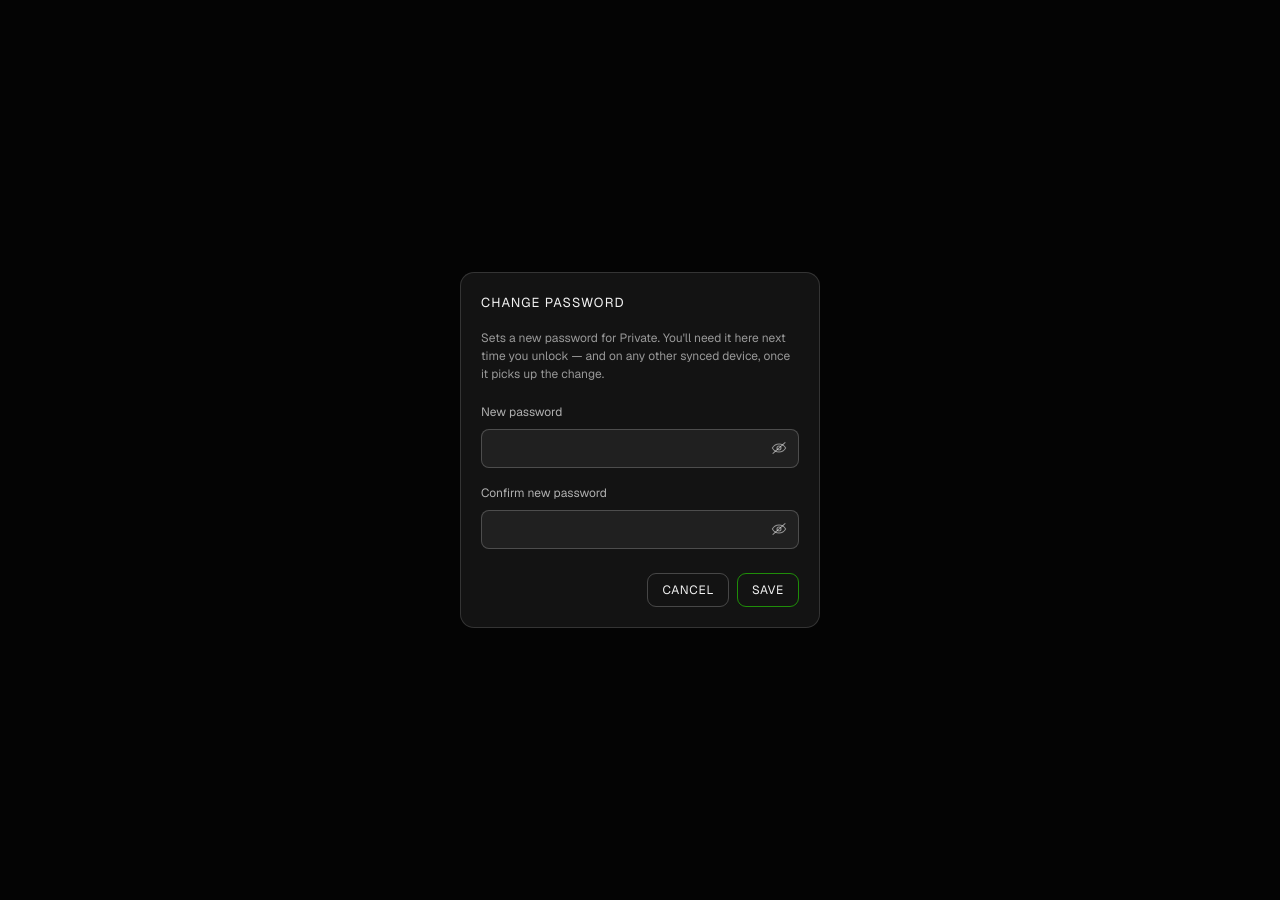
Test: PrivateChangePasswordDialog › shows an error and does not submit when passwords do not match
Type "password1" into the password field labelled "New password" at point(640, 448), box x1=481 y1=429 x2=799 y2=468
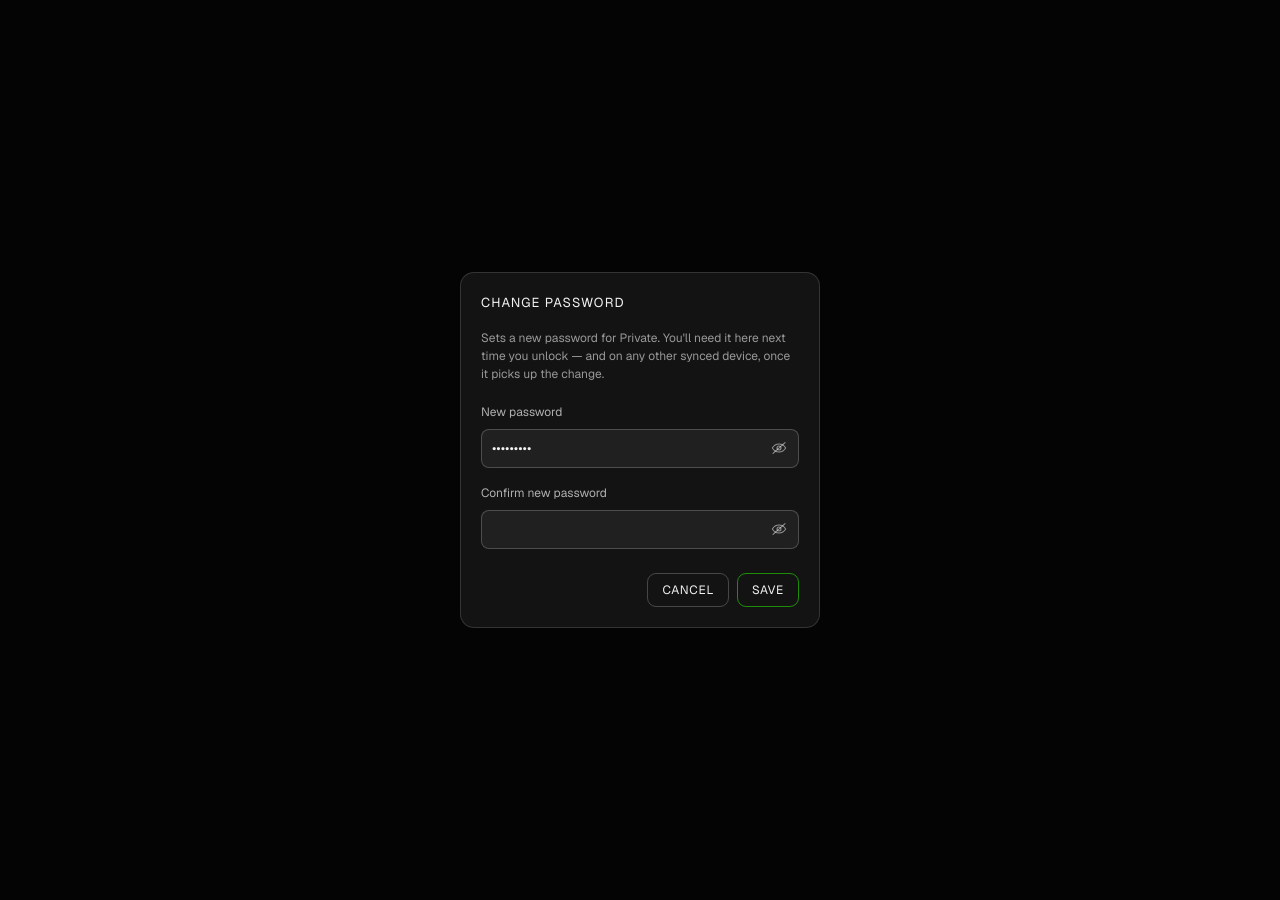
Type "password2" into the password field labelled "Confirm new password" at point(640, 529), box x1=481 y1=510 x2=799 y2=549
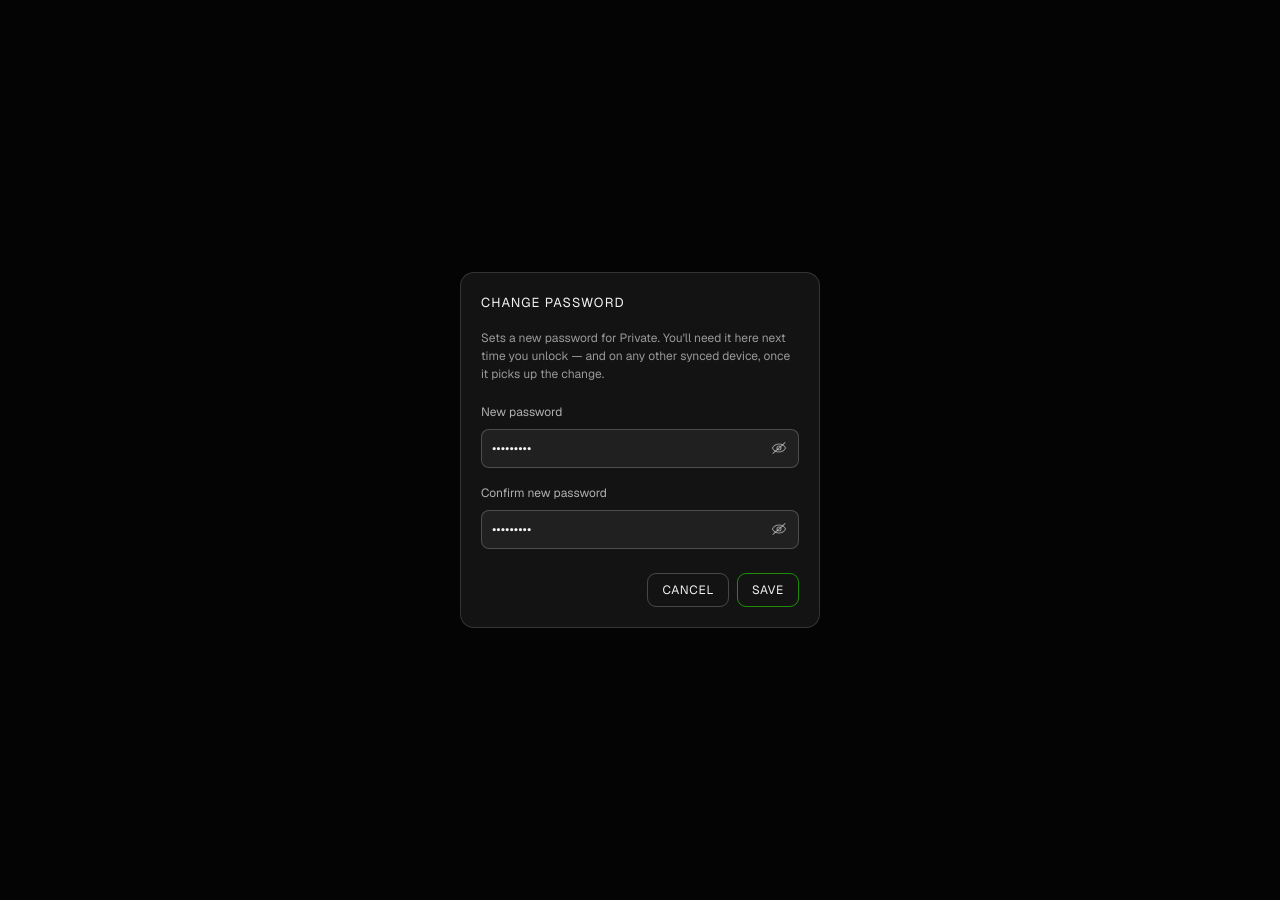
Click the button "SAVE" at point(768, 590), box x1=737 y1=573 x2=799 y2=607
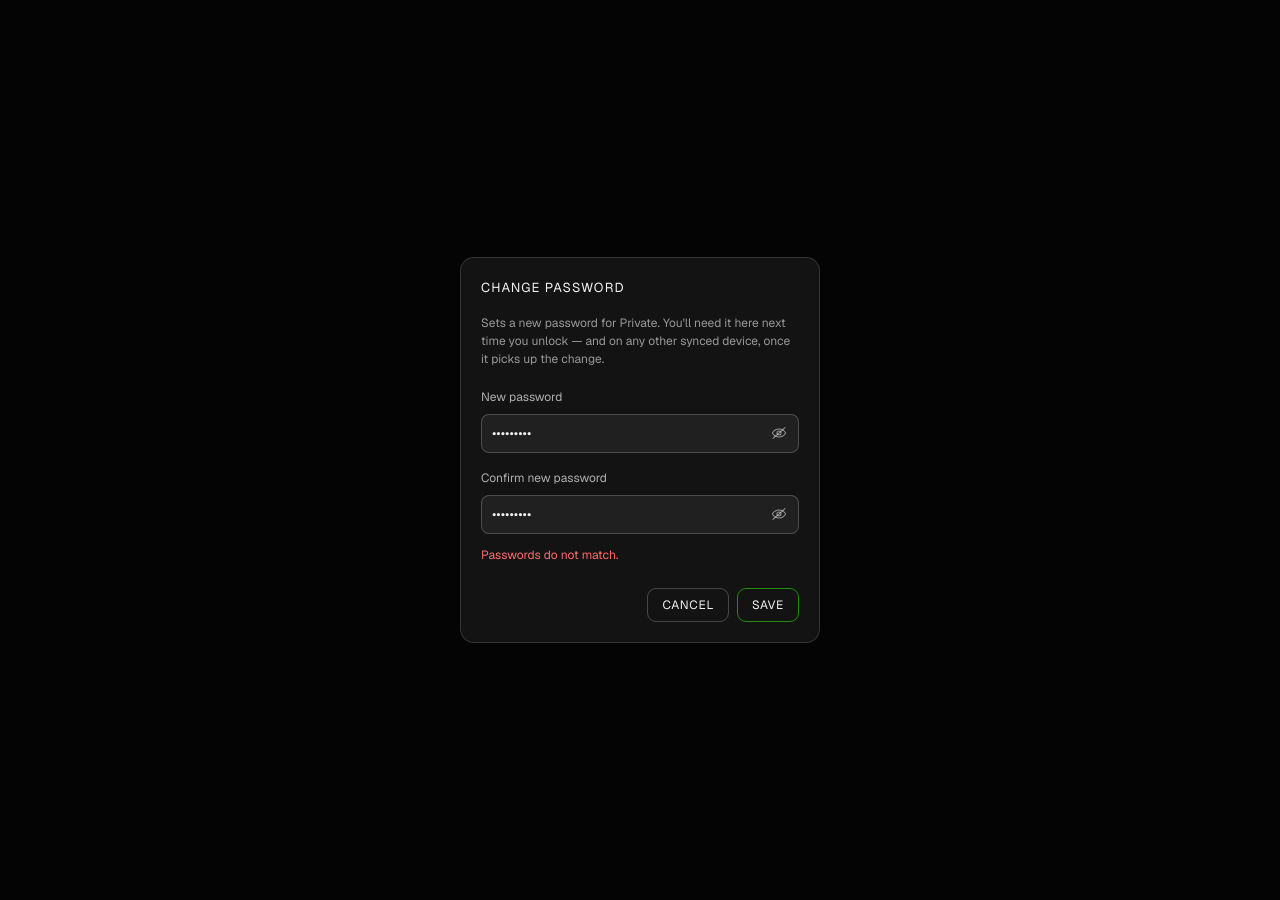
Check: the text "Passwords do not match." is shown, box x1=481 y1=547 x2=618 y2=563
